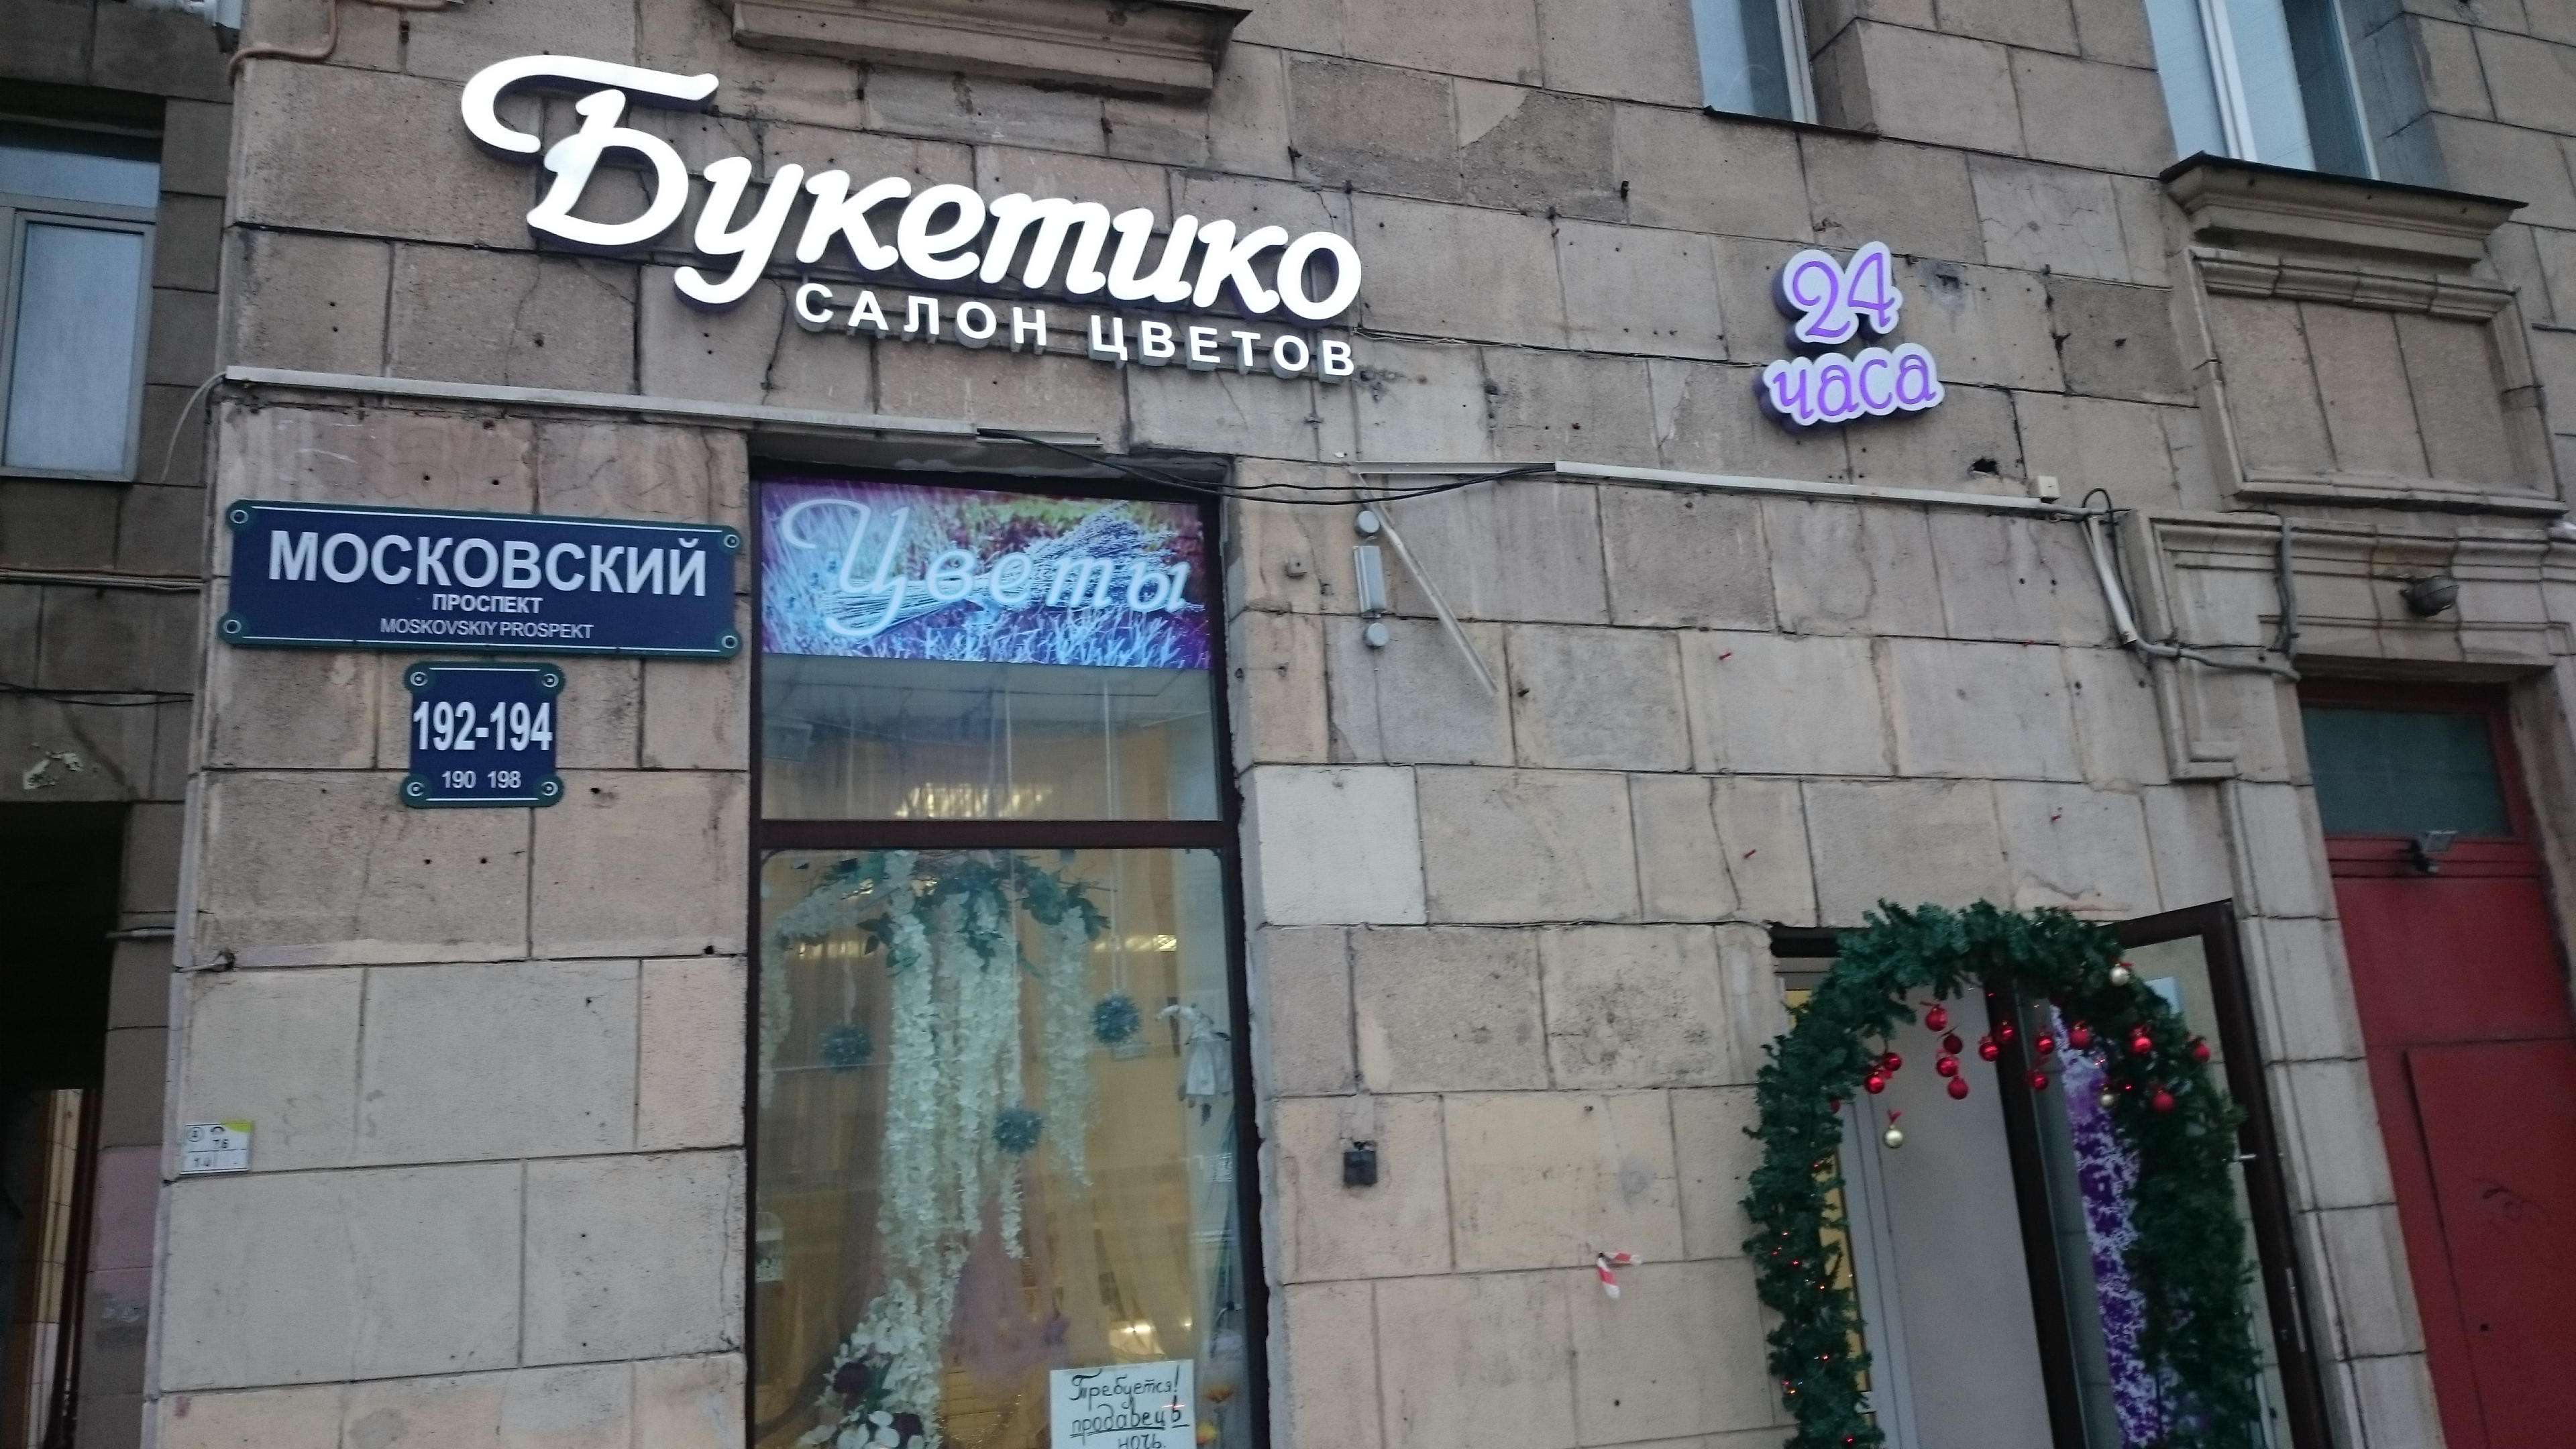signboard: (426, 44, 1376, 384), (1757, 241, 1953, 426)
win_ad: (761, 479, 1207, 665)
window: (755, 671, 1242, 1449)
